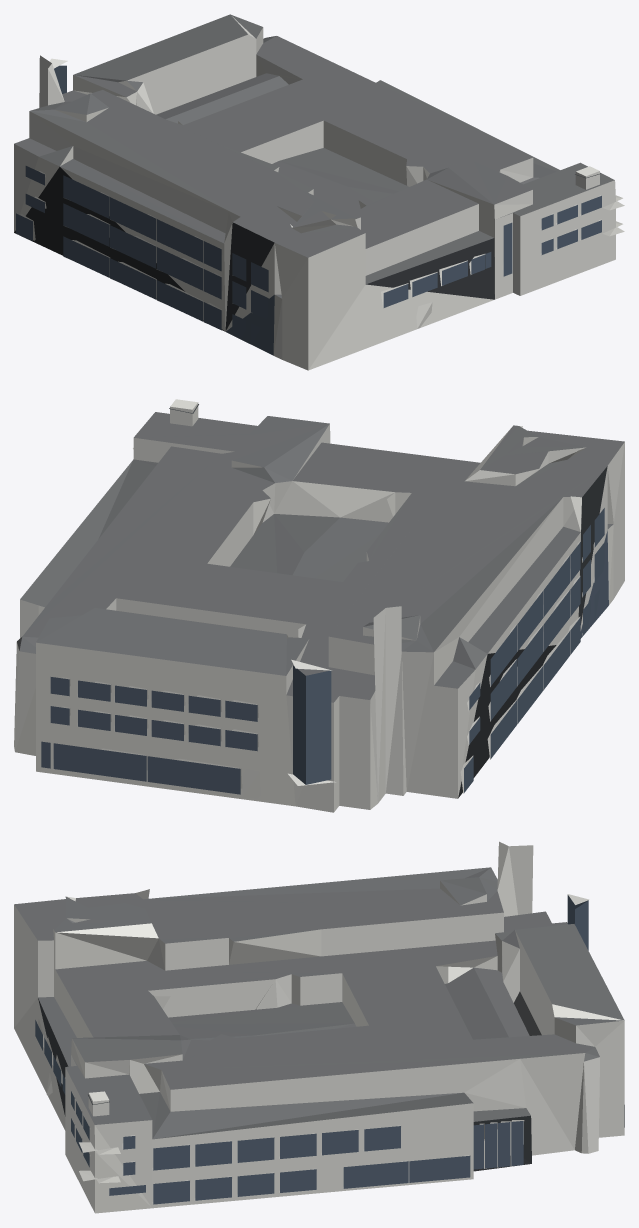
File: citroen-zuid.lod2.glb
3 renders of one model, top to bottom at view 1: azimuth 30°, elevation 25°; view 2: azimuth 150°, elevation 25°; view 3: azimuth 270°, elevation 25°, orthographic. The views are drawn at different scales.
Visible parts, largest first — view 1: lod2; view 2: lod2; view 3: lod2.
Part boxes in pixels (<box>): lod2: <box>14,14,624,370</box>; lod2: <box>14,399,624,812</box>; lod2: <box>14,841,624,1213</box>.
Bounding box in the file's own units: 63.33 × 20.97 × 70.05.
